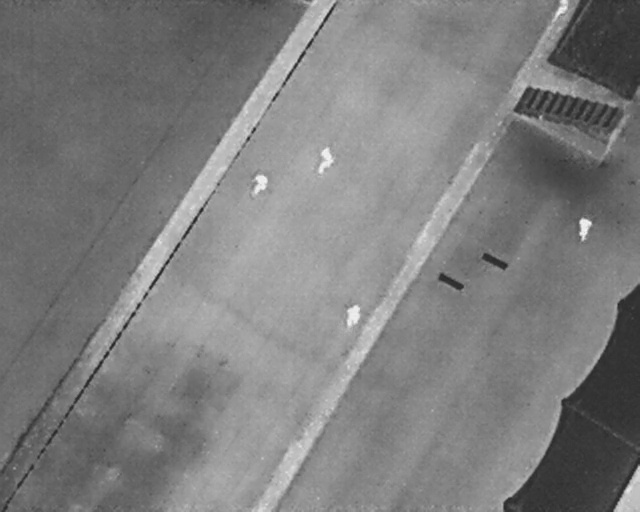Person: (311, 143, 338, 178), (572, 213, 595, 245), (342, 301, 364, 331), (247, 170, 270, 198)
